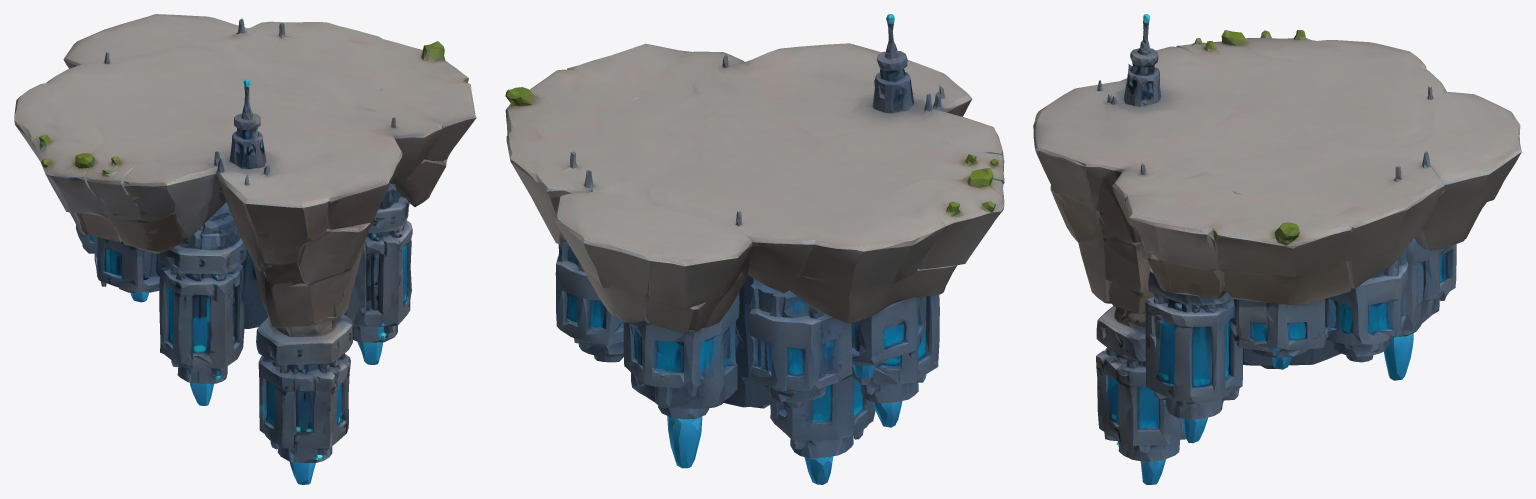
The picture shows the model from 3 angles, left to right: view 1: azimuth 30°, elevation 25°; view 2: azimuth 150°, elevation 25°; view 3: azimuth 270°, elevation 25°; orthographic projection. The views are drawn at different scales.
Parts seen in each view (by area): view 1: Mesh; view 2: Mesh; view 3: Mesh.
Part boxes in pixels (box(x1,y1,x2,y2)): Mesh: box(14, 14, 476, 484); Mesh: box(505, 14, 1004, 484); Mesh: box(1033, 14, 1521, 484).
Bounding box in the file's own units: 1.89 × 1.83 × 1.85.
Materials: 1 (1 with a texture image).
